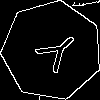Y: (27, 25, 84, 81)
